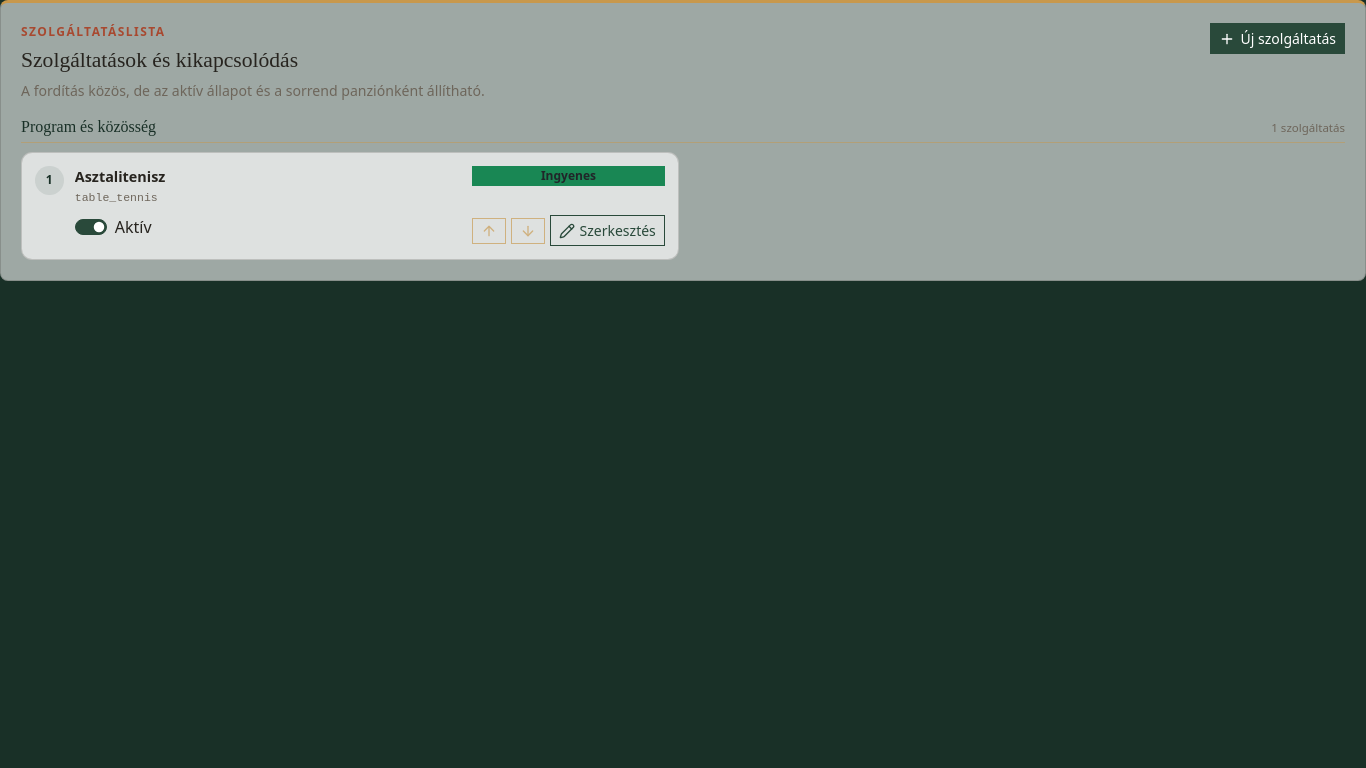
it: AdminAmenityEditor › edits an existing service and exposes a failed save inside the dialog
Click the button "Szerkesztés": coordinates (607, 231) [550, 215, 665, 246]
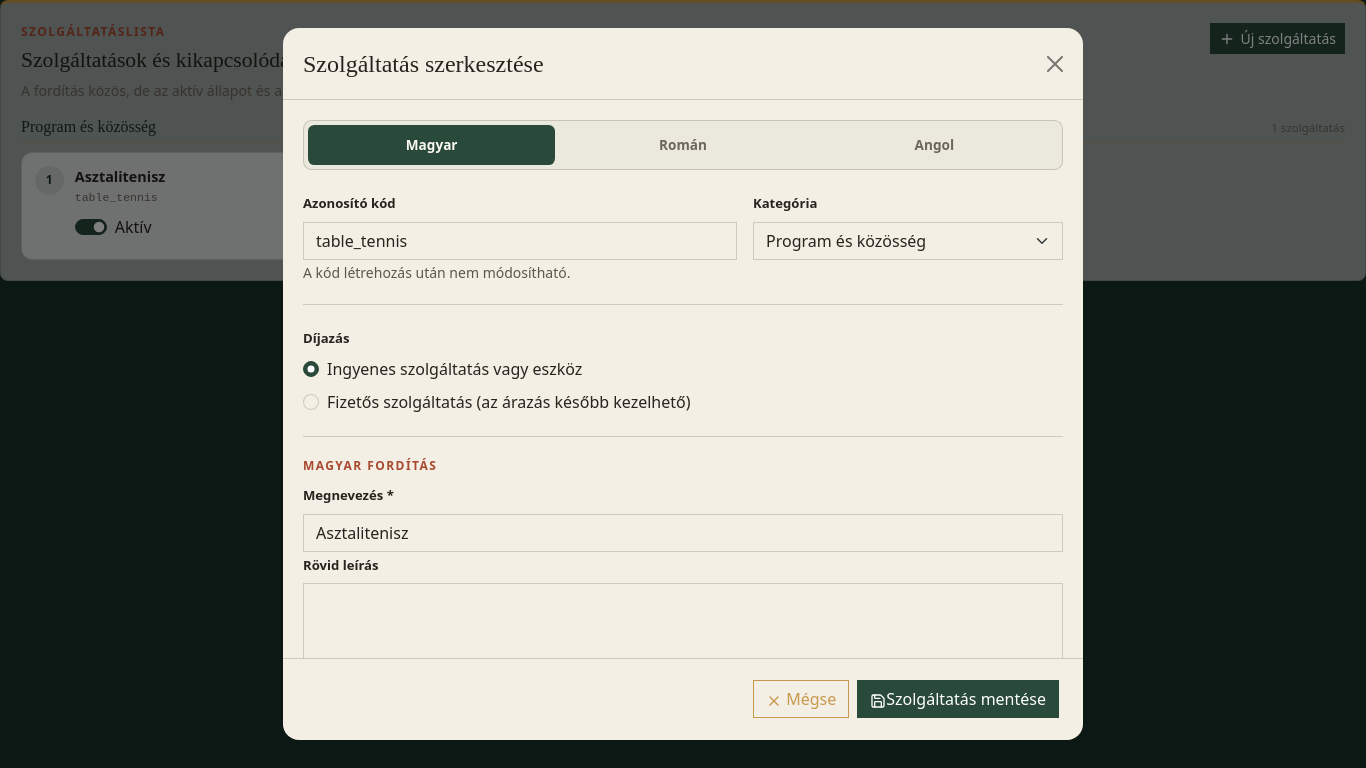
Replace the text in the field labelled "Megnevezés *" with "Pingpong": coordinates (683, 533) [303, 514, 1063, 552]
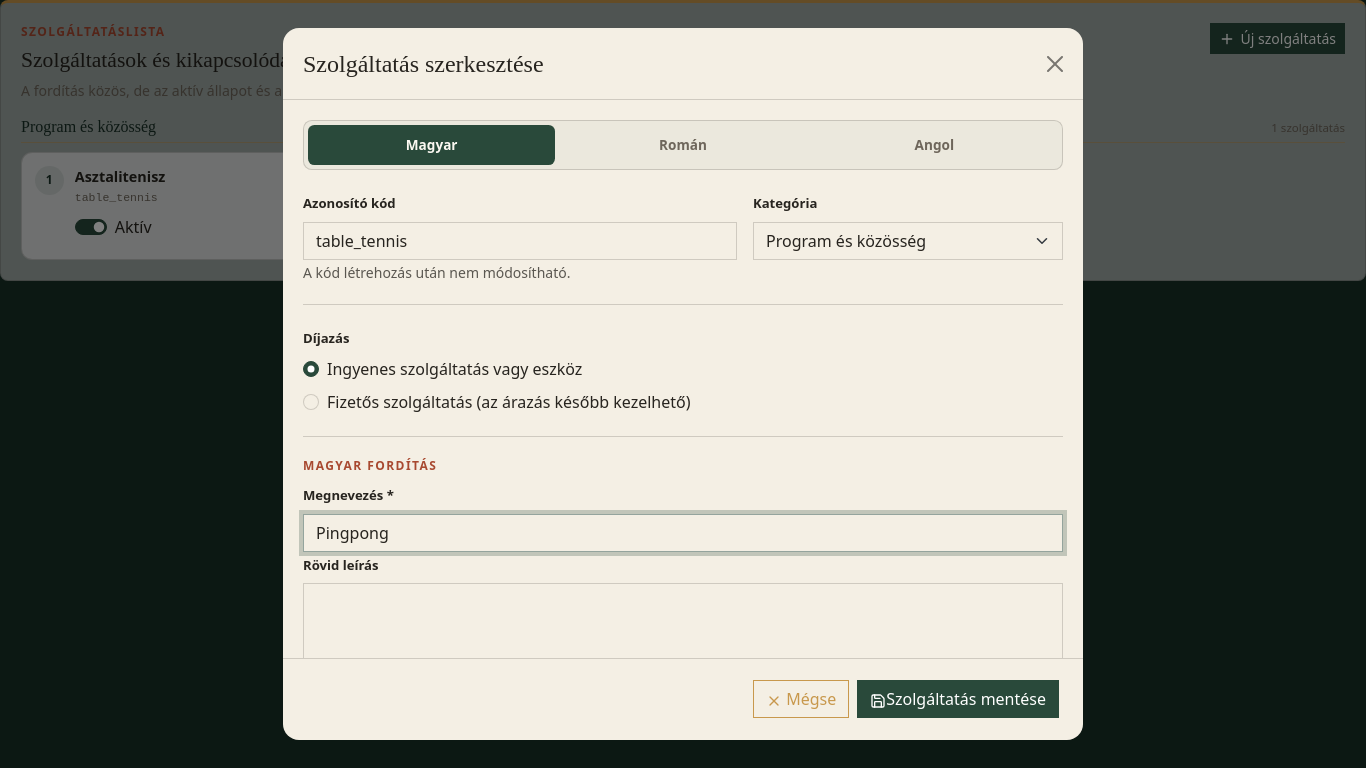
Click the button "Szolgáltatás mentése": coordinates (958, 699) [857, 680, 1059, 718]
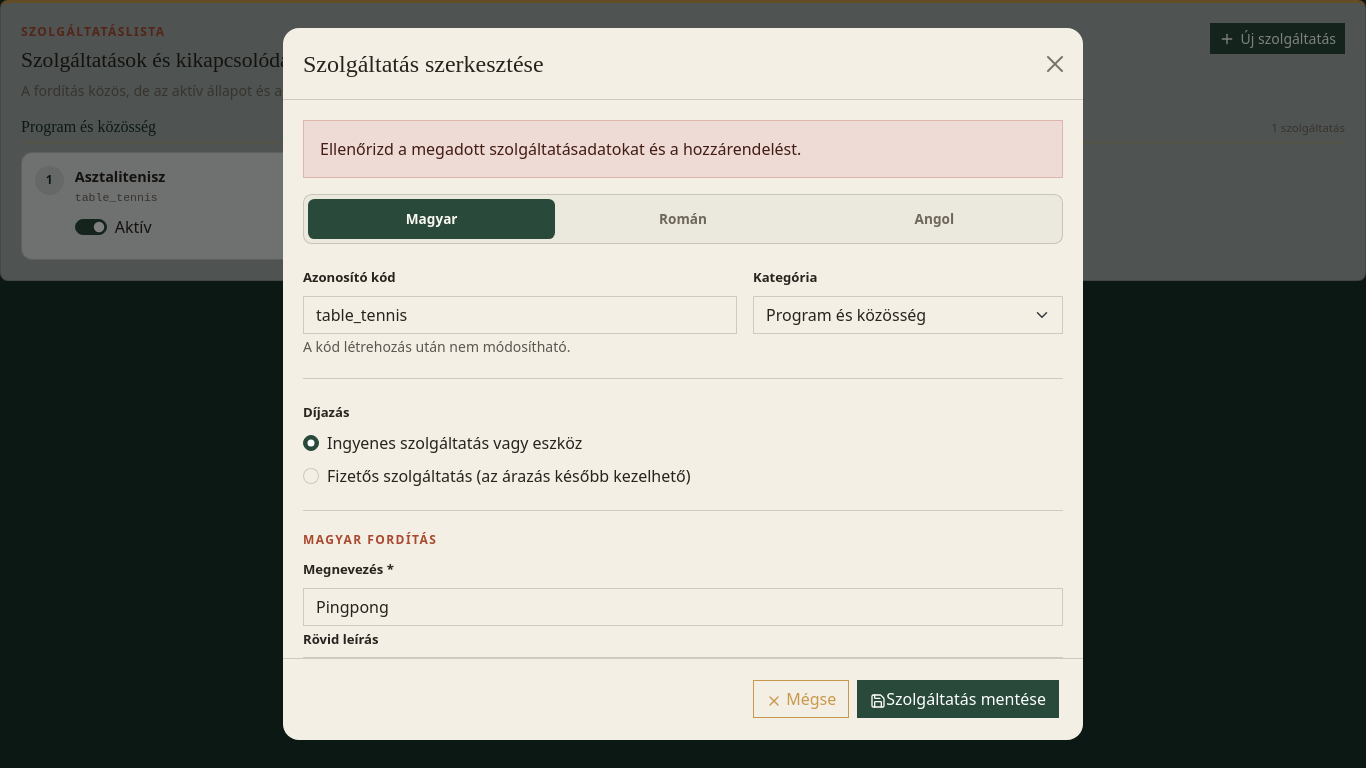
Expected: the dialog is shown, [283, 28, 1083, 740]
Expected: the text "Ellenőrizd a megadott szolgáltatásadatokat és a hozzárendelést." is shown, [303, 120, 1063, 178]
